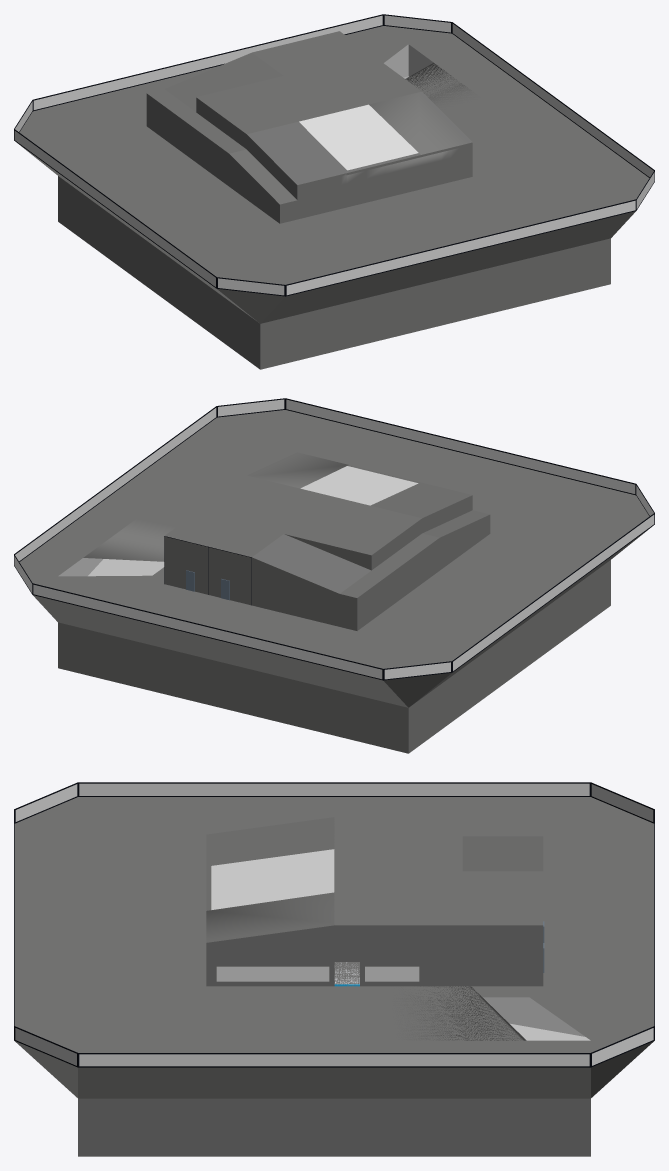
The model's file is Moonfall2.fbx.
3 views of the same model, one above another, from view 1: azimuth 30°, elevation 25°; view 2: azimuth 150°, elevation 25°; view 3: azimuth 270°, elevation 25° (orthographic). The views are drawn at different scales.
Visible parts, largest first — view 1: Building, Base, ElevatorCover, GlassFence2, GlassFence1, Ceiling Glass, GlassFence4, GlassFence3; view 2: Building, Base, ElevatorCover, GlassFence1, GlassFence2, GlassFence3, GlassFence4, Ceiling Glass; view 3: Building, Base, GlassFence3, GlassFence4, Ceiling Glass, ElevatorCover, Window1, GlassFence1, GlassFence2, Window2.
Part boxes in pixels (x1,y1,x2,y2): Building: [17, 26, 649, 323]; Base: [58, 176, 610, 369]; ElevatorCover: [146, 52, 297, 223]; GlassFence2: [216, 199, 636, 296]; GlassFence1: [32, 14, 451, 111]; Ceiling Glass: [299, 104, 418, 170]; GlassFence4: [452, 22, 654, 210]; GlassFence3: [14, 100, 216, 288]; Building: [19, 410, 651, 707]; Base: [58, 560, 610, 753]; ElevatorCover: [252, 510, 490, 630]; GlassFence1: [14, 554, 383, 680]; GlassFence2: [285, 398, 654, 516]; GlassFence3: [383, 513, 654, 680]; GlassFence4: [14, 398, 285, 561]; Ceiling Glass: [300, 466, 418, 505]; Building: [14, 797, 654, 1098]; Base: [78, 1098, 590, 1156]; GlassFence3: [78, 782, 654, 823]; GlassFence4: [14, 1026, 590, 1067]; Ceiling Glass: [211, 849, 334, 909]; ElevatorCover: [462, 825, 543, 871]; Window1: [216, 966, 329, 981]; GlassFence1: [591, 809, 654, 1067]; GlassFence2: [14, 782, 77, 1025]; Window2: [365, 966, 419, 981].
Bounding box in the file's own units: 5000 × 1525 × 5000.
